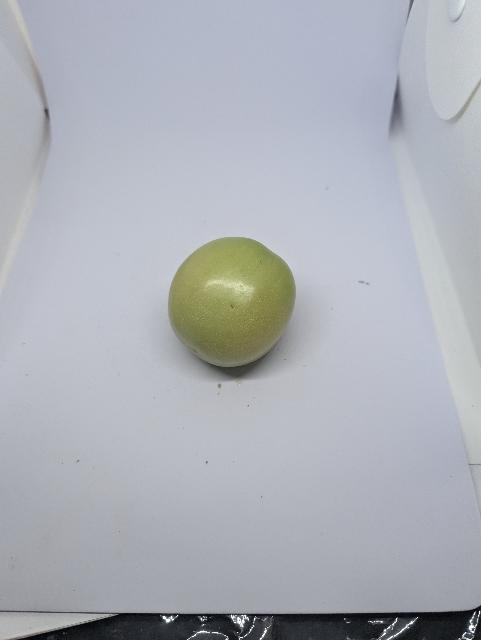green: (166, 234, 301, 370)
